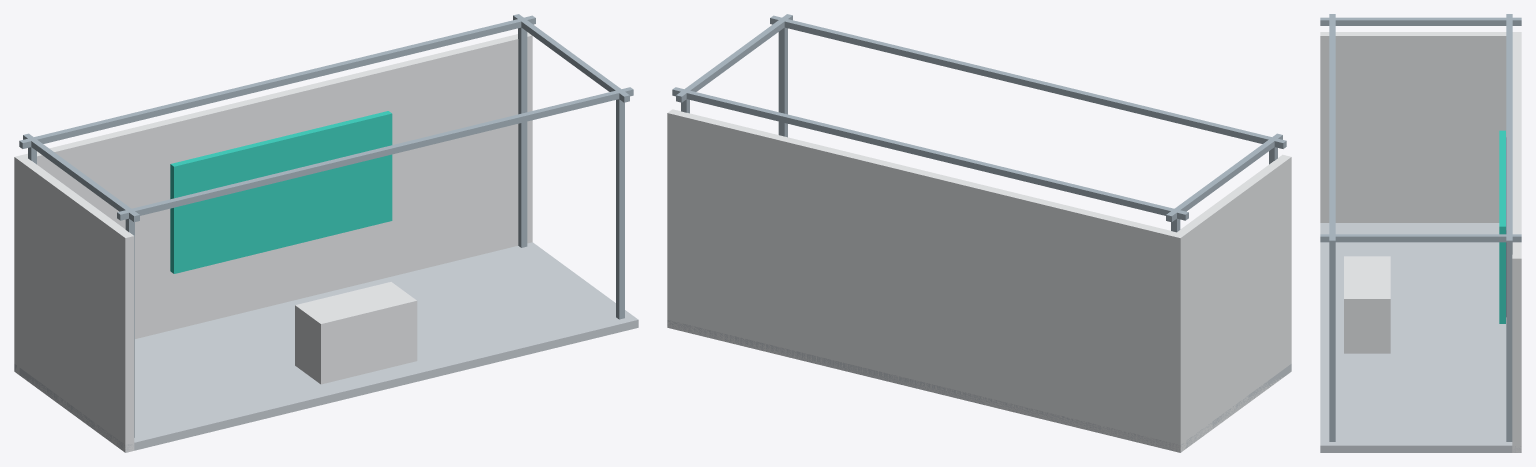
The picture shows the model from 3 angles, left to right: view 1: azimuth 30°, elevation 25°; view 2: azimuth 150°, elevation 25°; view 3: azimuth 270°, elevation 25°; orthographic projection. The views are drawn at different scales.
Parts seen in each view (by area): view 1: Exhibition Booth Concept; view 2: Exhibition Booth Concept; view 3: Exhibition Booth Concept.
Part boxes in pixels (box(x1,y1,x2,y2)): Exhibition Booth Concept: box(14, 14, 638, 452); Exhibition Booth Concept: box(667, 14, 1291, 452); Exhibition Booth Concept: box(1320, 14, 1521, 452).
Bounding box in the file's own units: 8 × 3.49 × 3.
